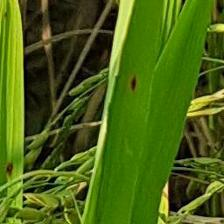0 BrownSpot: (126, 68, 140, 96)
